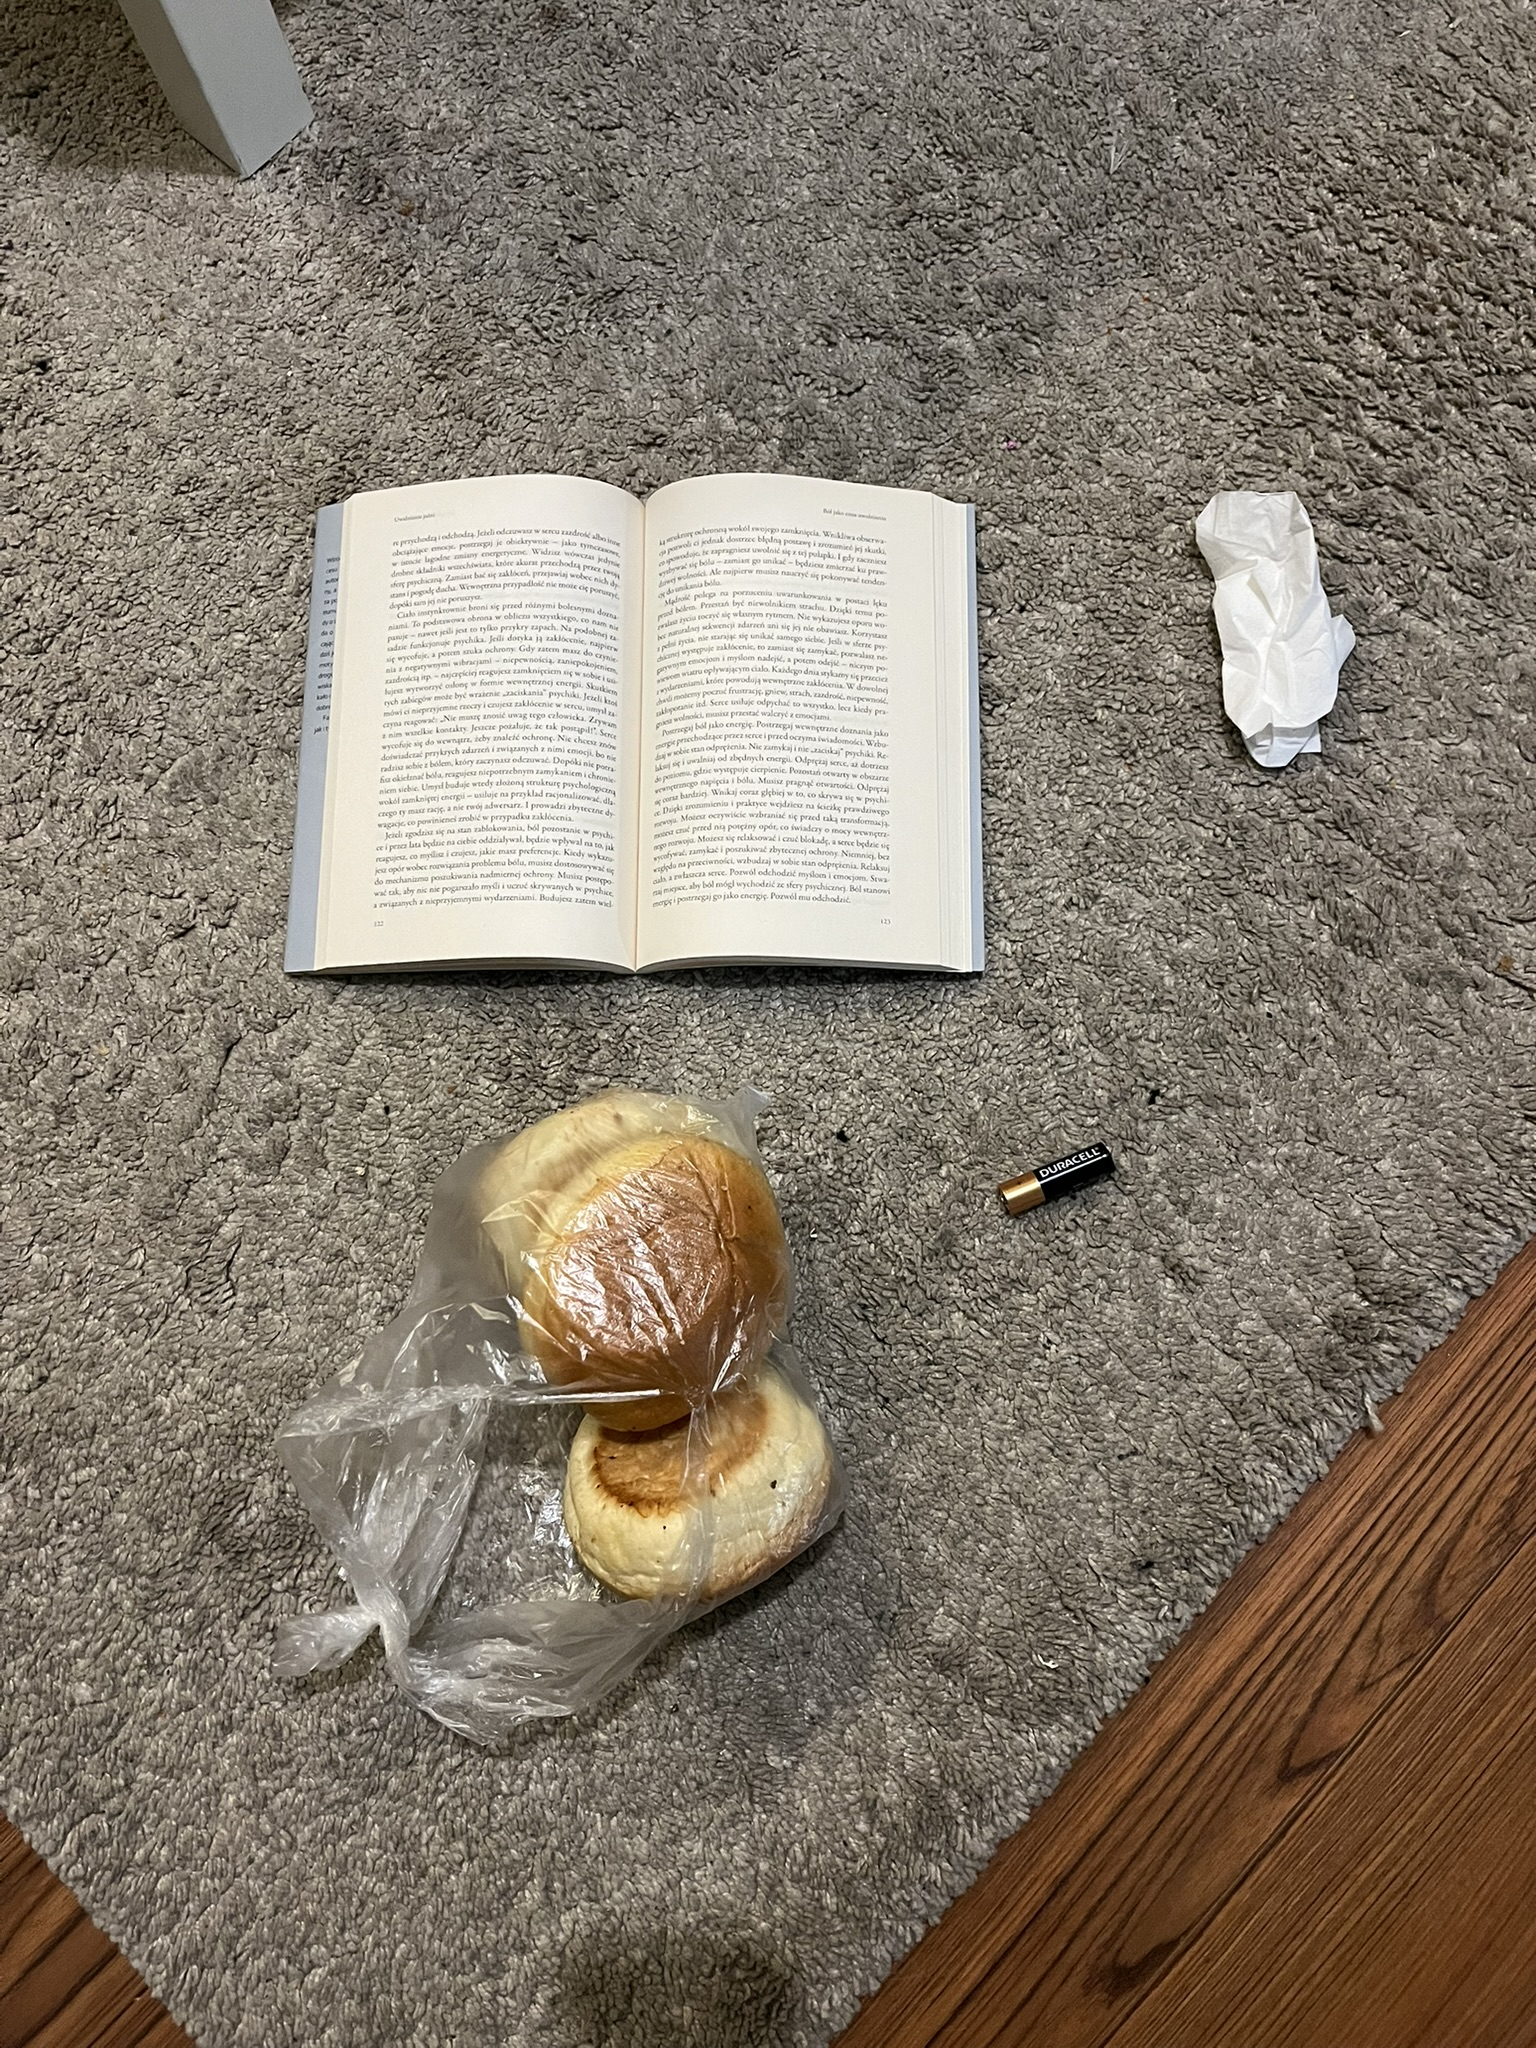BIODEGRADABLE: (478, 1118, 797, 1405), (570, 1371, 828, 1601)
METAL: (976, 1185, 1142, 1248)
PAPER: (265, 476, 1021, 992), (1189, 472, 1362, 792)
PLASTIC: (245, 1080, 858, 1766)
